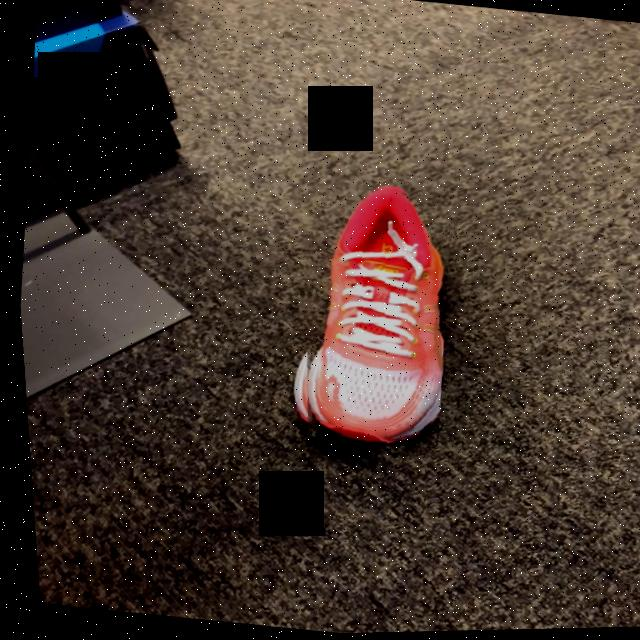shoe: (299, 191, 440, 446)
